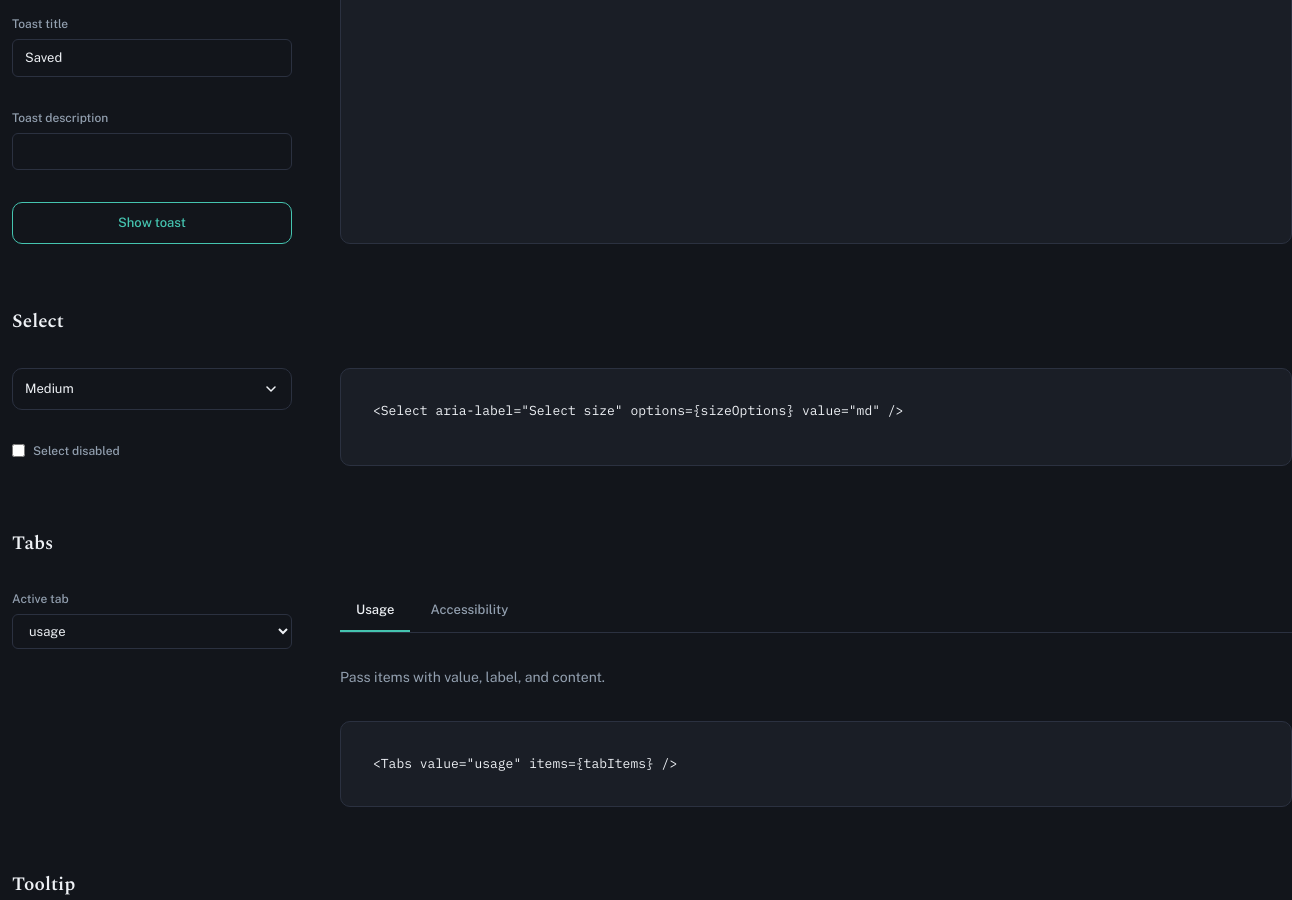
PlaygroundControls › toggles Select disabled into the generated code
This screenshot has width=1292, height=900.
(page scrolled)
Click the checkbox labelled "Select disabled". click: x=18, y=450
box: [12,444,25,457]
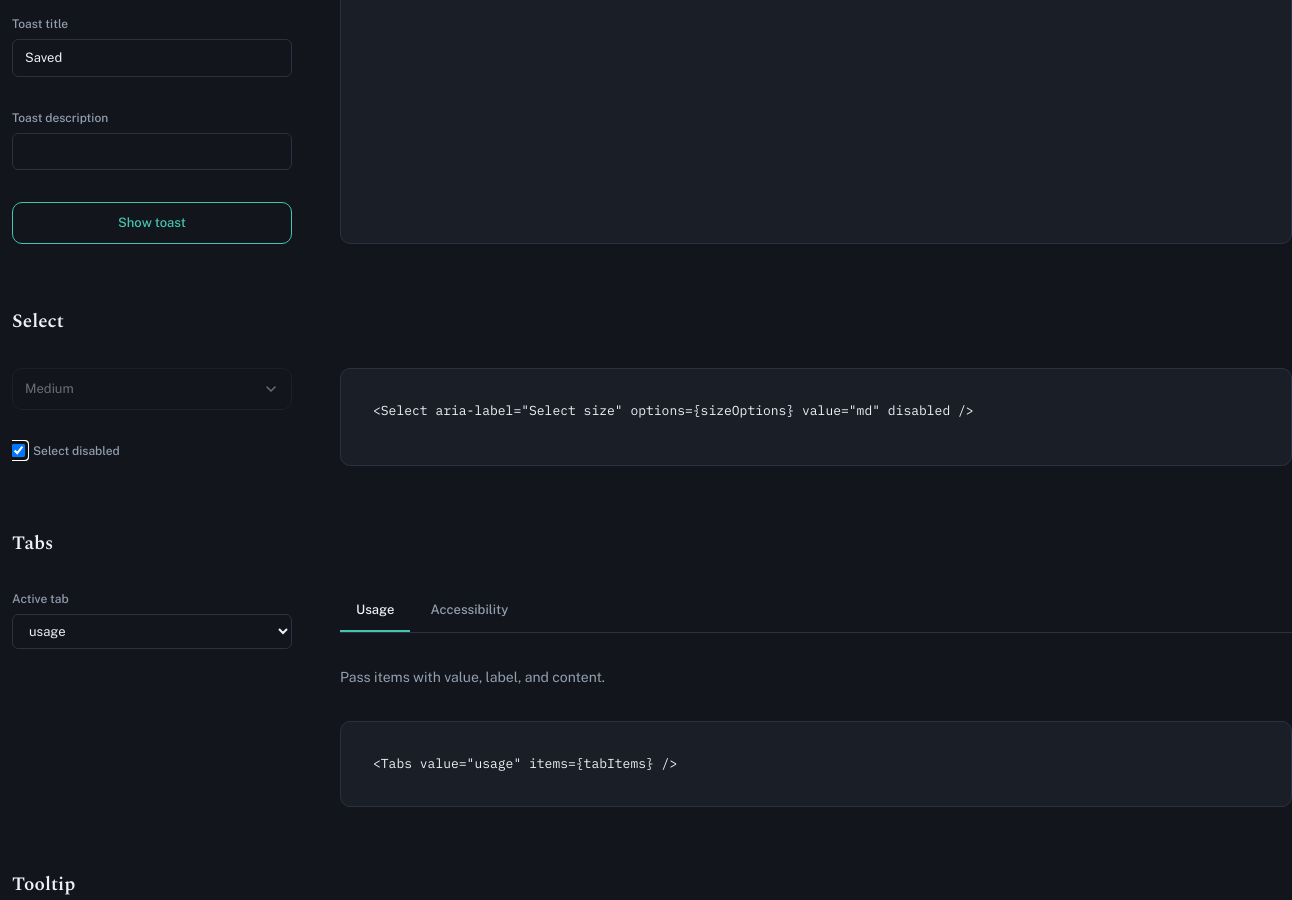
Now the text "<Select aria-label=\"Select size\" options={sizeOptions} value=\"md\" disabled />" is shown, box [340,368,1291,466]
Now the dropdown named "Select size" is disabled, box [12,368,292,410]
